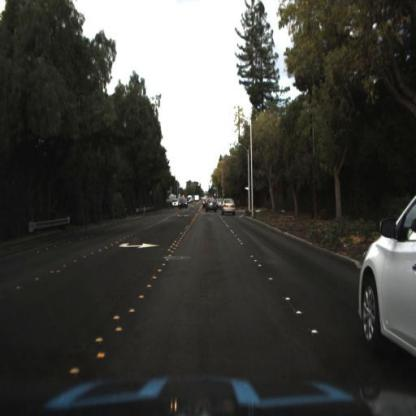car: (356, 177, 416, 365), (221, 195, 238, 218), (203, 196, 218, 216), (171, 196, 181, 212)
